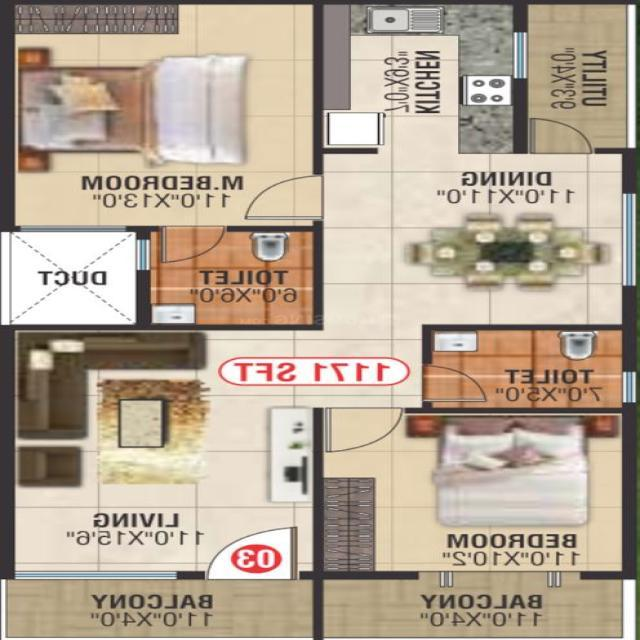Balcony-Sitout: (324, 573, 622, 638)
Bedroom: (323, 413, 622, 572)
Bedroom with Toilet: (6, 2, 318, 328)
Dining: (398, 205, 626, 294)
Enterance-Foyer: (201, 523, 304, 580)
Kitchen: (324, 4, 514, 155)
Living: (17, 332, 315, 571)
Toilet: (152, 230, 313, 324), (428, 330, 621, 407)
Utility: (528, 3, 629, 153)
